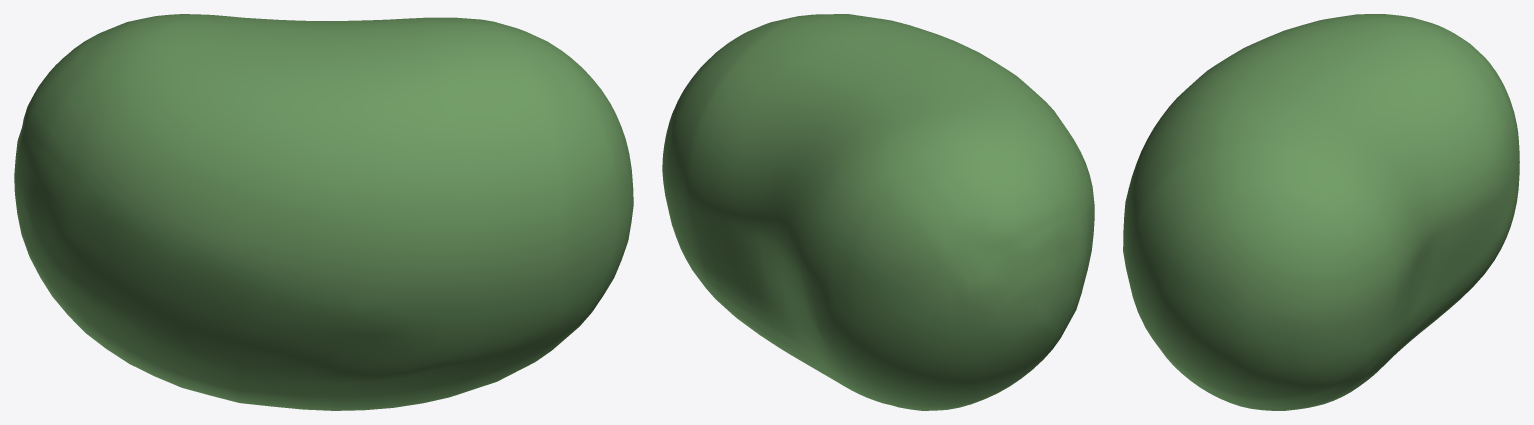
The model's file is jellyBeanGreen.fbx.
3 views of the same model, side by side, from view 1: azimuth 30°, elevation 25°; view 2: azimuth 150°, elevation 25°; view 3: azimuth 270°, elevation 25° (orthographic). The views are drawn at different scales.
Visible parts, largest first — view 1: pasted__pasted__model5; view 2: pasted__pasted__model5; view 3: pasted__pasted__model5.
Boxes of the visible parts, box(x1,y1,x2,y2) form: pasted__pasted__model5: box(14, 14, 633, 410); pasted__pasted__model5: box(662, 14, 1094, 410); pasted__pasted__model5: box(1123, 14, 1519, 410).
Size of the model in its own units: 2.02 by 1.37 by 1.64.
